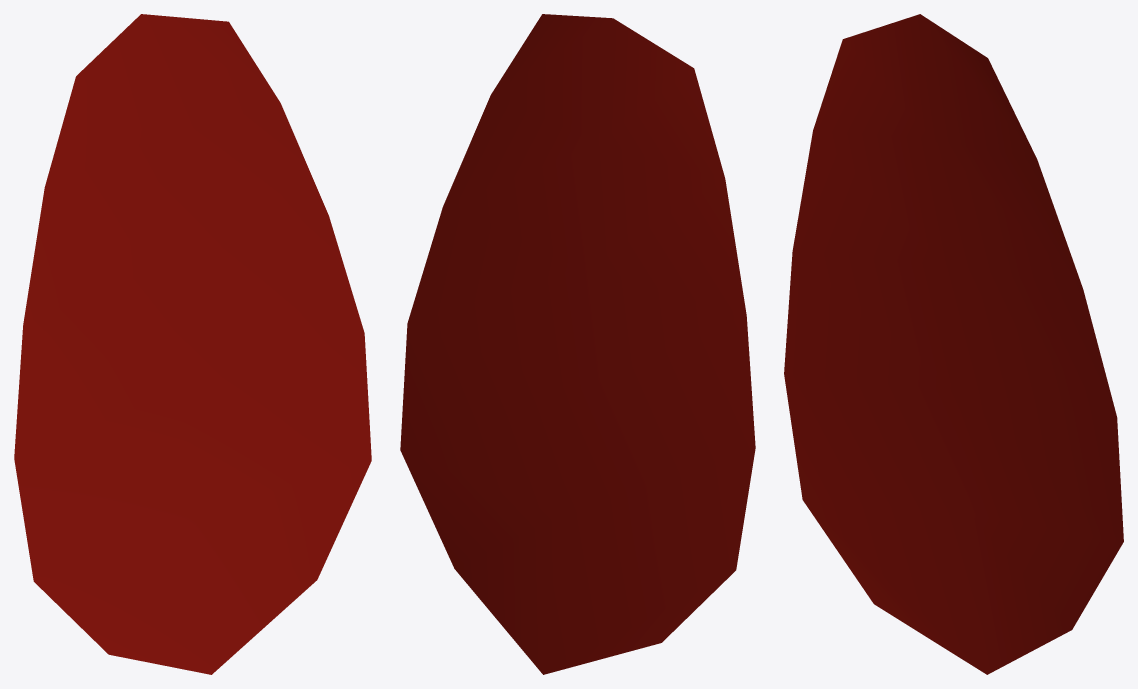
The model's file is ara_feather_flight_tertiary_044.obj.
3 renders of one model, left to right at view 1: azimuth 30°, elevation 25°; view 2: azimuth 150°, elevation 25°; view 3: azimuth 330°, elevation 25°, orthographic. The views are drawn at different scales.
Visible parts, largest first — view 1: feather_flight_tertiary_044; view 2: feather_flight_tertiary_044; view 3: feather_flight_tertiary_044.
Boxes of the visible parts, x1,y1,x2,y2 form: feather_flight_tertiary_044: [14, 14, 371, 674]; feather_flight_tertiary_044: [400, 14, 755, 674]; feather_flight_tertiary_044: [784, 14, 1123, 674].
Size of the model in its own units: 0.0184 by 0.0333 by 0.000725.
